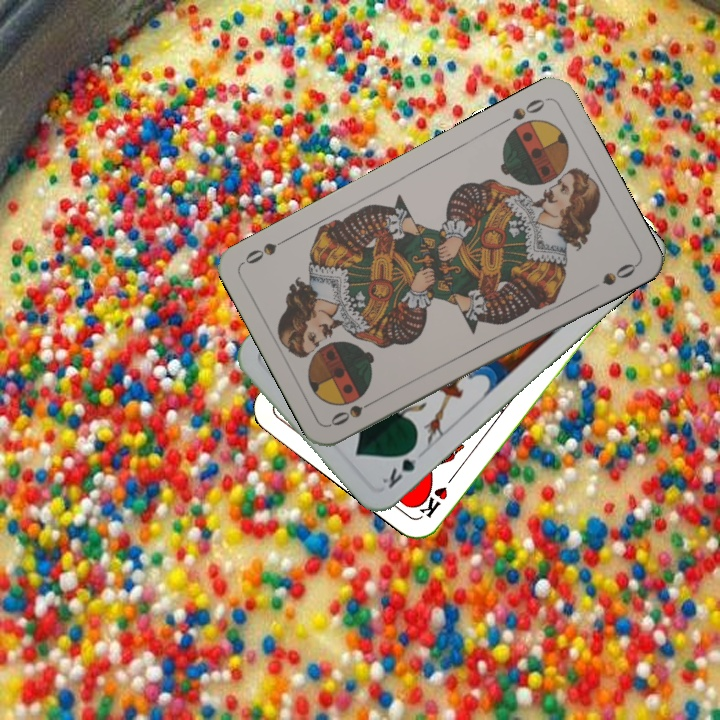GK: (378, 441, 420, 492)
HK: (414, 468, 460, 521)
SO: (326, 394, 382, 429), (495, 94, 550, 128)
